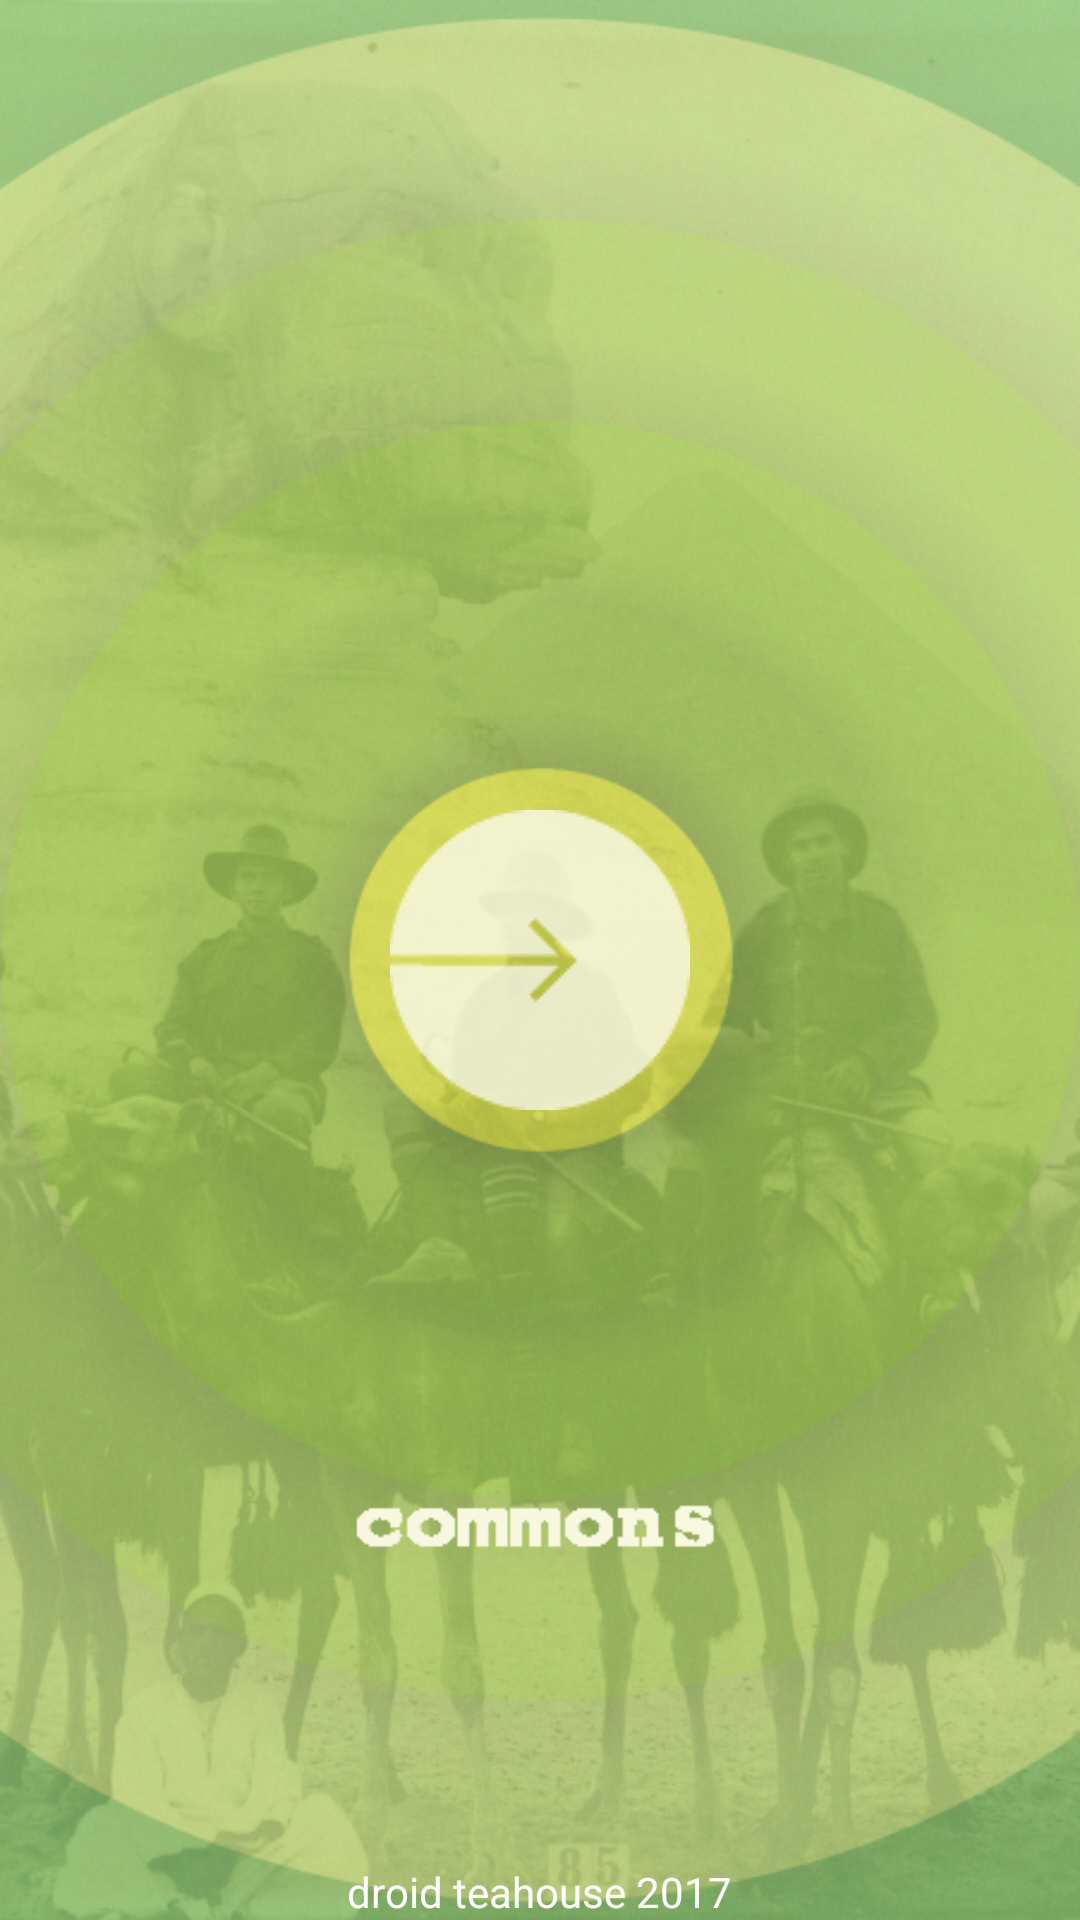

Screen size 1080px×1920px. Icon name, then its box in pixels as Rect(x1, y1, x2, y2):
arrow: Rect(390, 810, 690, 1110)
